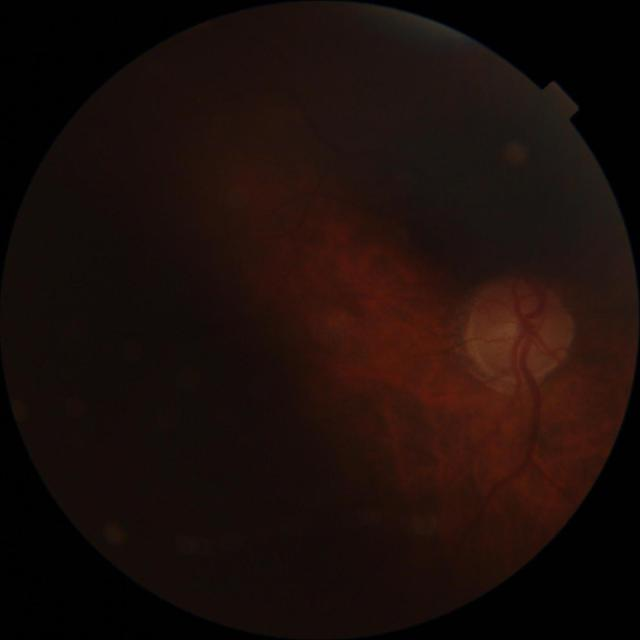OC: (505, 319, 524, 337)
OD: (465, 276, 571, 384)
